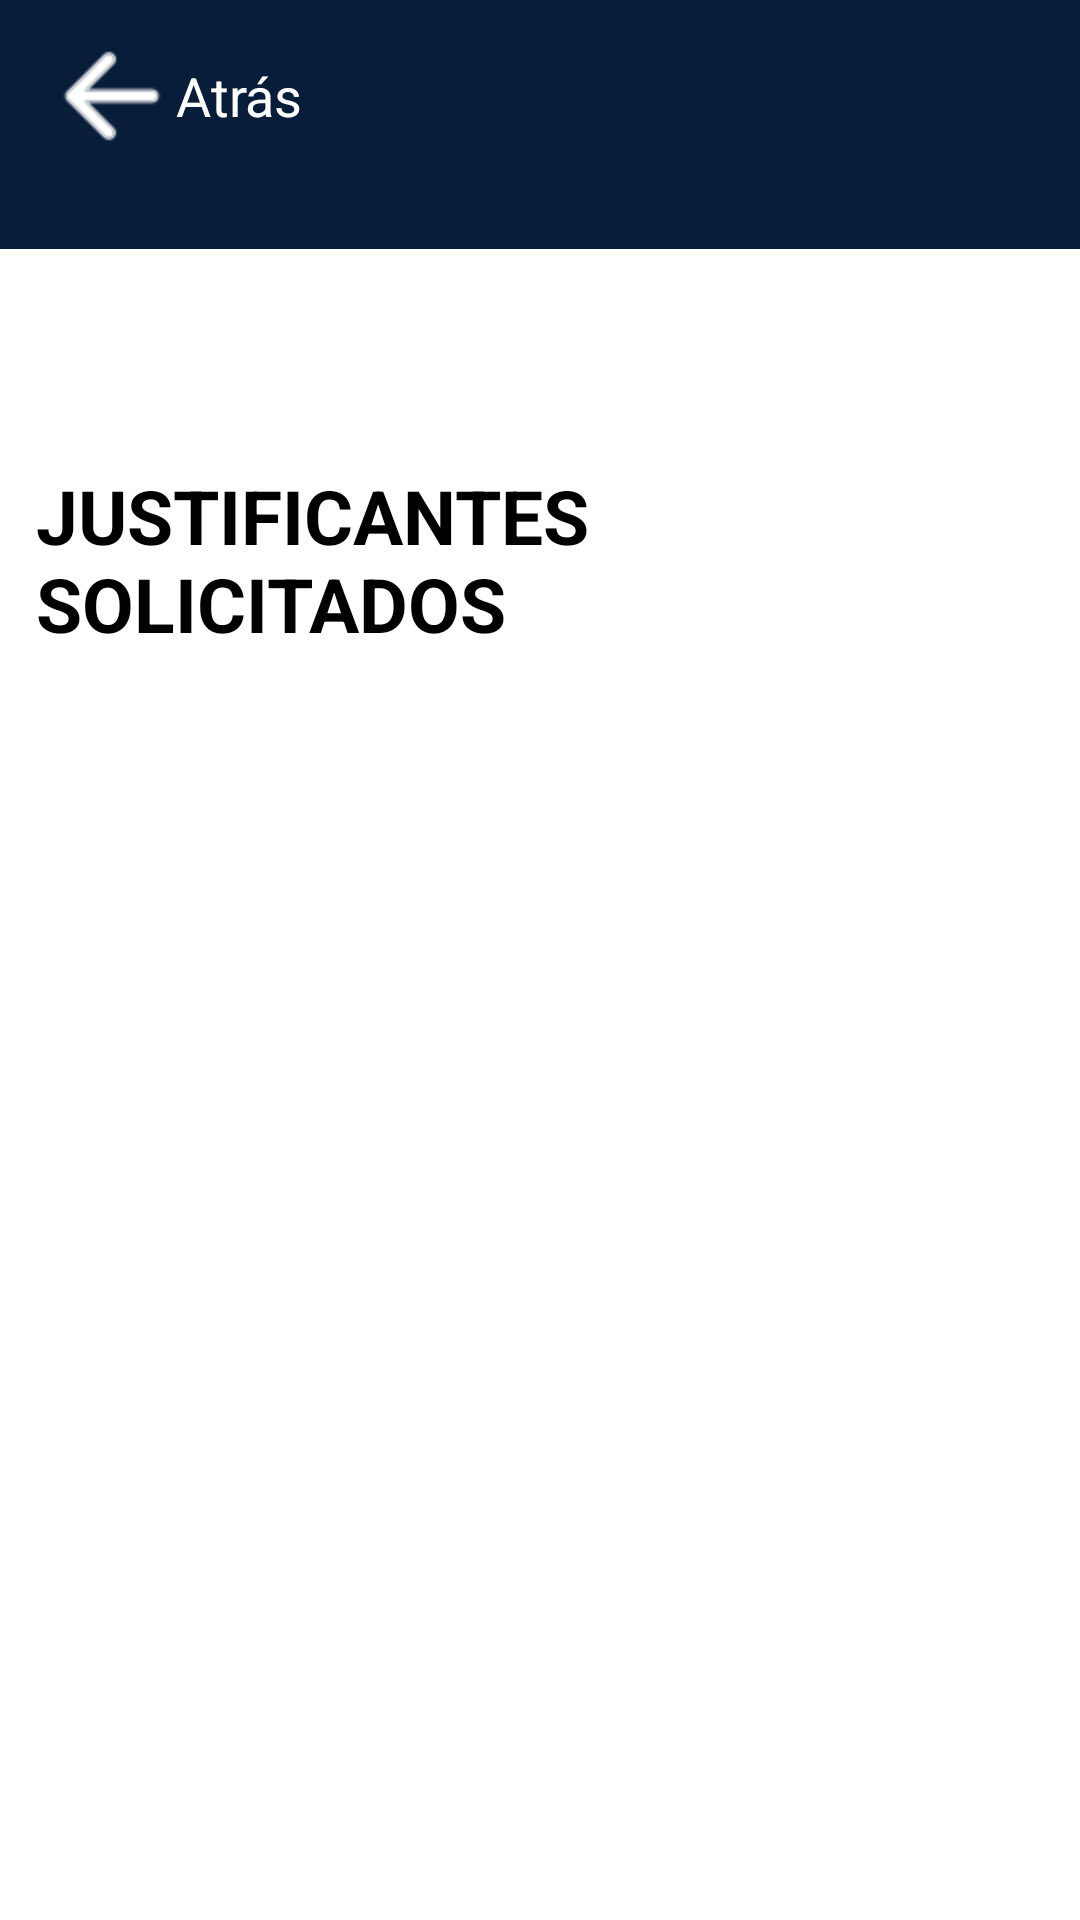

Screen size 1080px×1920px. Icon name, then its box in pixels as region(x1, y1, x2, y2):
atras: region(64, 51, 160, 141)
